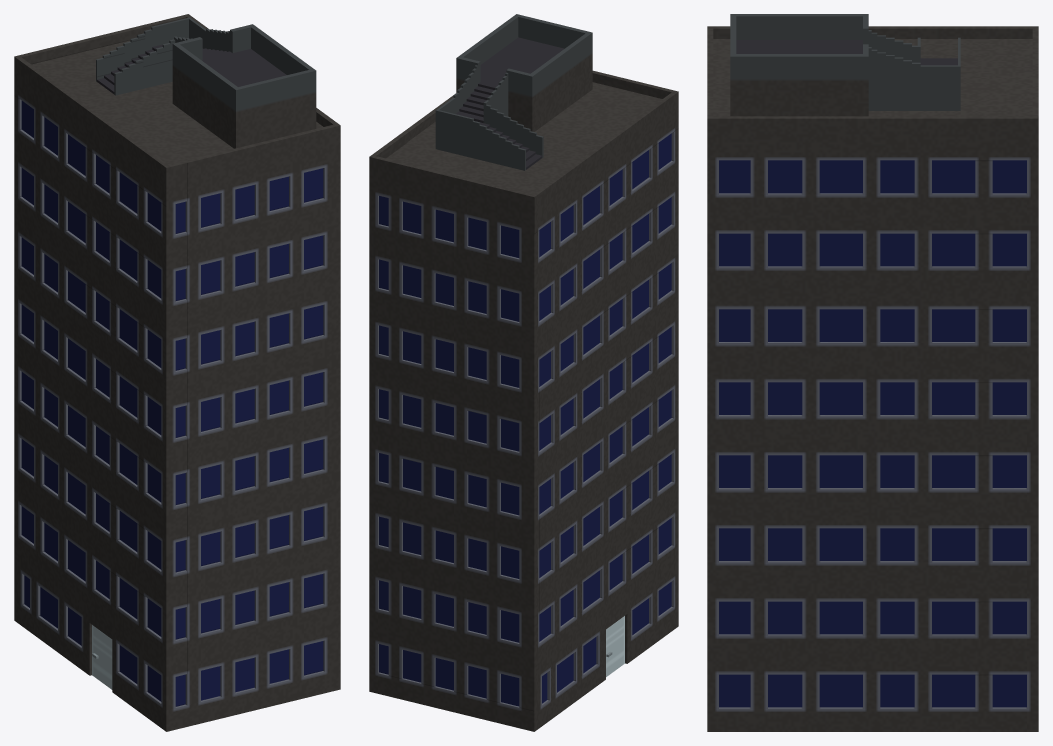
File: budynek_007_big.dae
The picture shows the model from 3 angles, left to right: view 1: azimuth 30°, elevation 25°; view 2: azimuth 150°, elevation 25°; view 3: azimuth 270°, elevation 25°; orthographic projection. The views are drawn at different scales.
Parts seen in each view (by area): view 1: Content; view 2: Content; view 3: Content.
Boxes of the visible parts, box(x1,y1,x2,y2) form: Content: box(14, 14, 340, 731); Content: box(369, 14, 678, 731); Content: box(707, 14, 1038, 731).
Bounding box in the file's own units: 76 × 256 × 115.
Materials: 1 (1 with a texture image).
